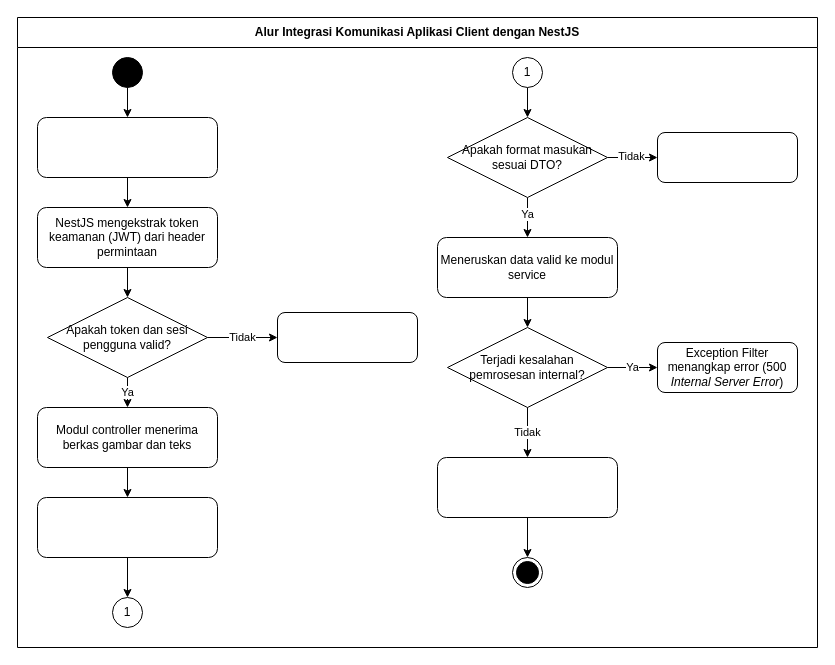
This 835x665 diagram has some shape labels left out. The box of each missing label's shape, as (x1, y1, x2, y2) in pixels:
Aplikasi client mengirimkan permintaan dengan data gambar struk dan teks OCR: (36, 116, 218, 178)
Mengembalikan pesan error (400 Bad Request ): (656, 132, 798, 182)
Mengirimkan respons sukses JSON ke aplikasi client: (436, 456, 618, 518)
Menolak permintaan (401 Unauthorized ): (276, 312, 418, 362)
Validasi kelengkapan dan format data masukan (DTO): (36, 496, 218, 558)
